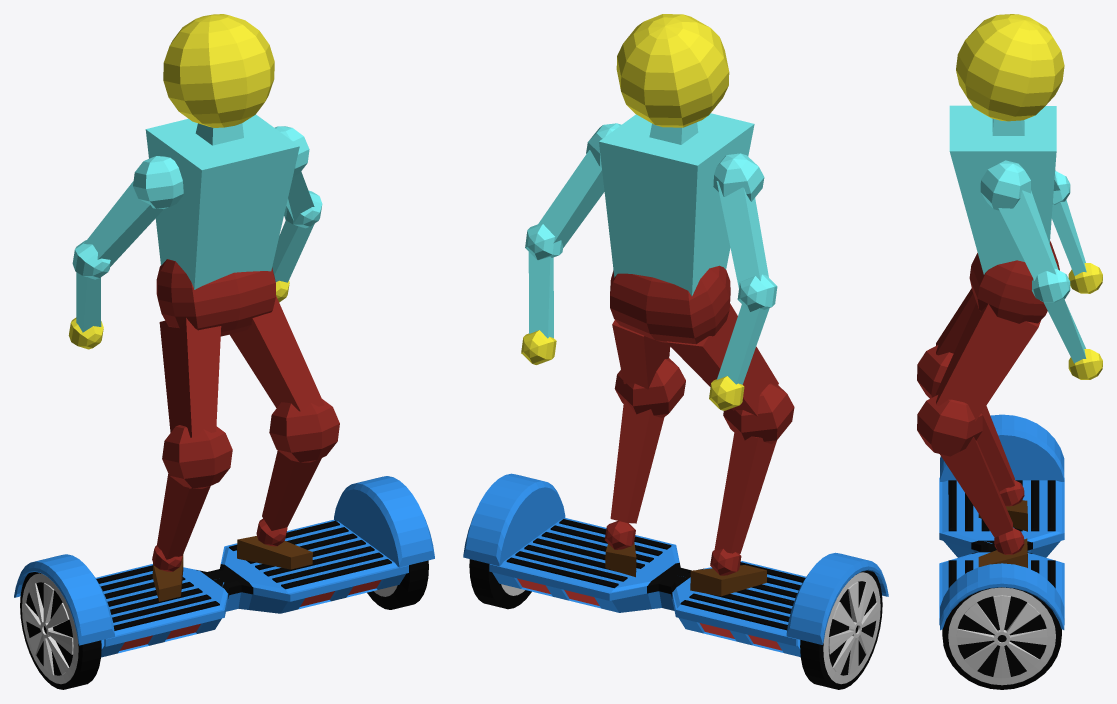
File: overboard.gltf
The picture shows the model from 3 angles, left to right: view 1: azimuth 30°, elevation 25°; view 2: azimuth 150°, elevation 25°; view 3: azimuth 270°, elevation 25°; orthographic projection. The views are drawn at different scales.
Visible parts, largest first — view 1: Cube.001; view 2: Cube.001; view 3: Cube.001.
Boxes of the visible parts, x1=… form: Cube.001: x1=14, y1=14, x2=434, y2=689; Cube.001: x1=463, y1=14, x2=888, y2=689; Cube.001: x1=917, y1=14, x2=1102, y2=689.
Bounding box in the file's own units: 0.108 × 0.1781 × 0.0508.
Materials: 2 (2 with a texture image).
